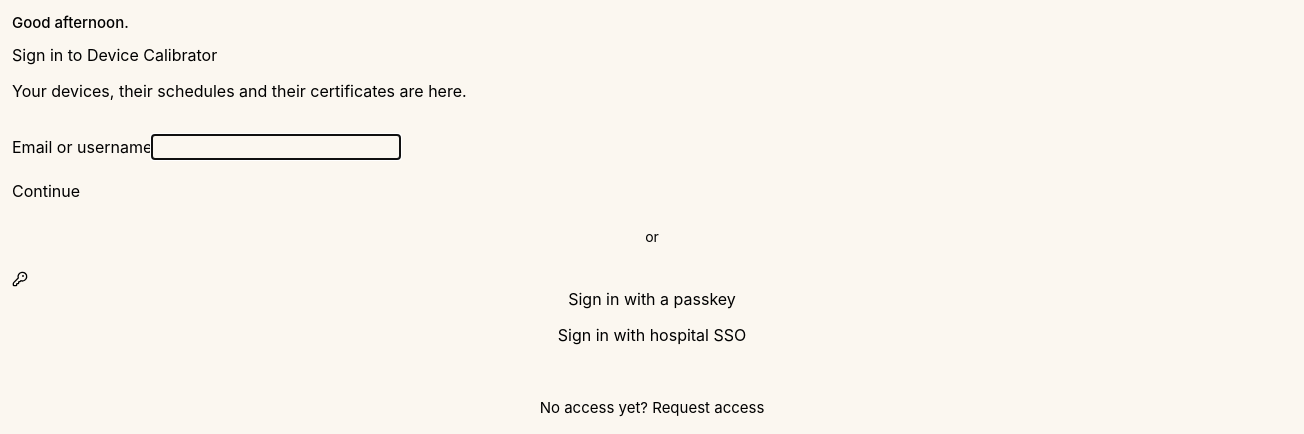
Test: P10-04: identifier-first sign-in › a wrong MFA code says so in the dictionary's words
Type "ada@rs.test" into the field labelled "Email or username" at (276, 146), box [152,134,400,158]
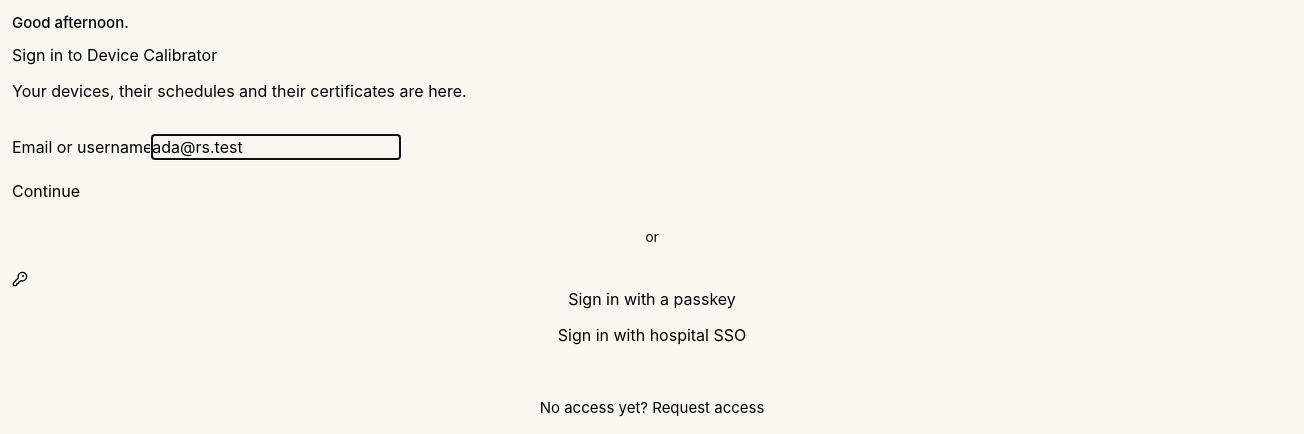
Click the button "Continue" at (46, 190), box [12,178,80,202]
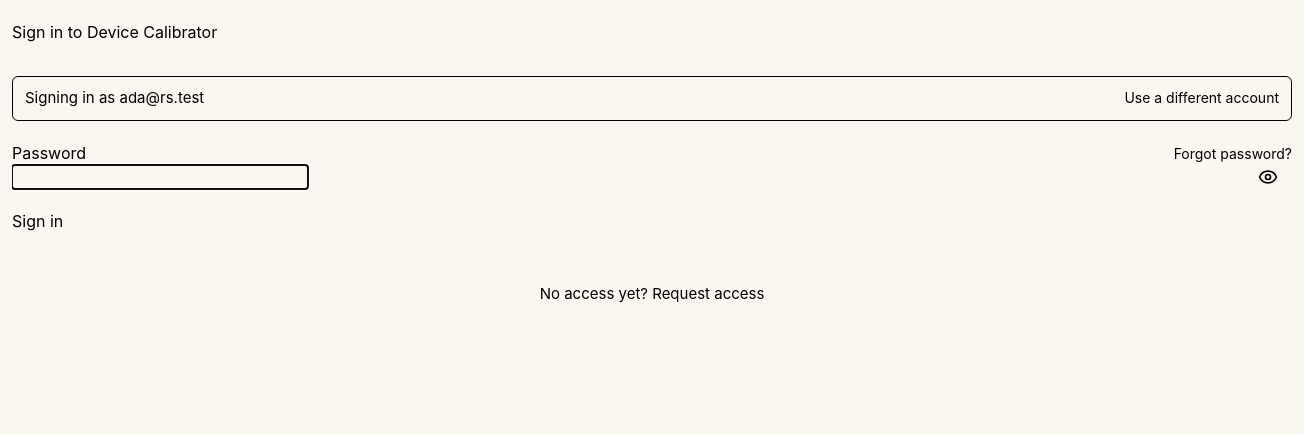
Type "Secret123" into the password field labelled "Password" at (160, 176), box [12,164,308,188]
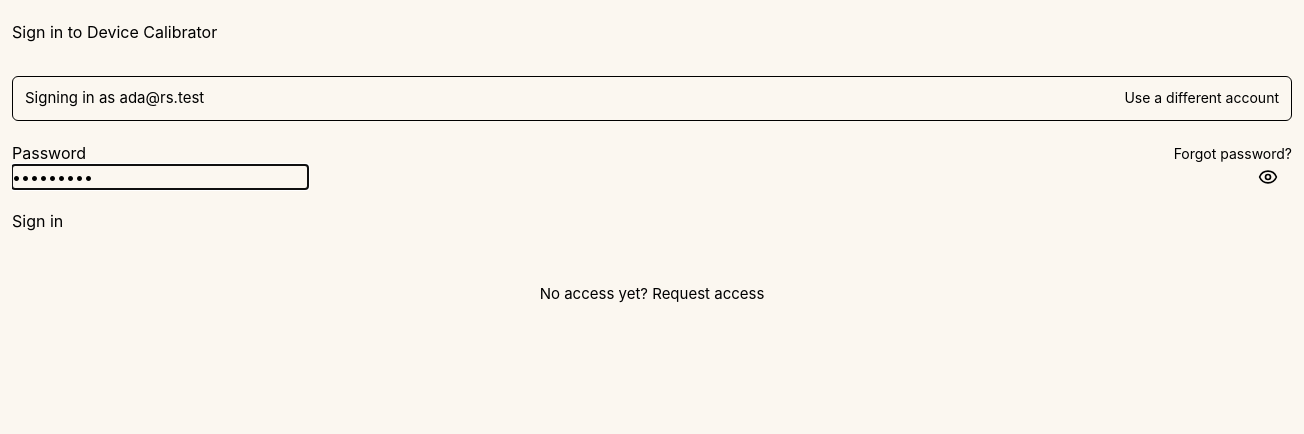
Click the button "Sign in" at (38, 220), box [12,208,63,232]
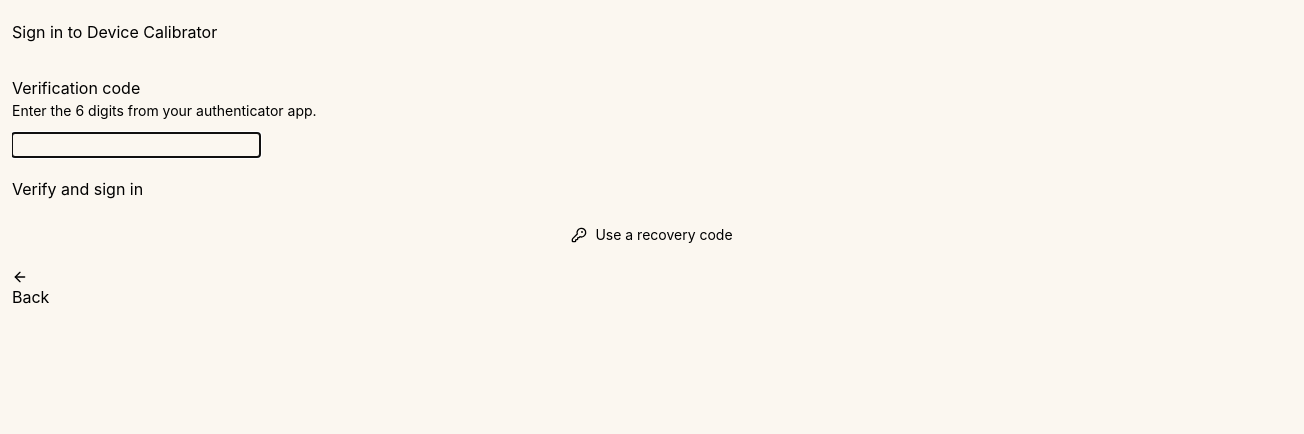
Type "000000" into the field labelled "Verification code" at (136, 145), box [12,133,260,157]
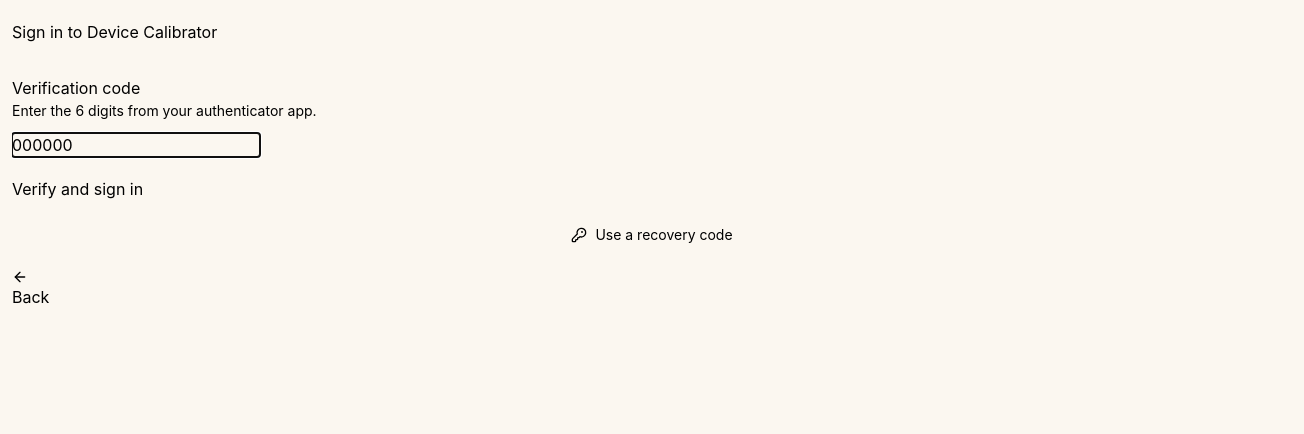
Click the button "Verify and sign in" at (78, 189), box [12,177,143,201]
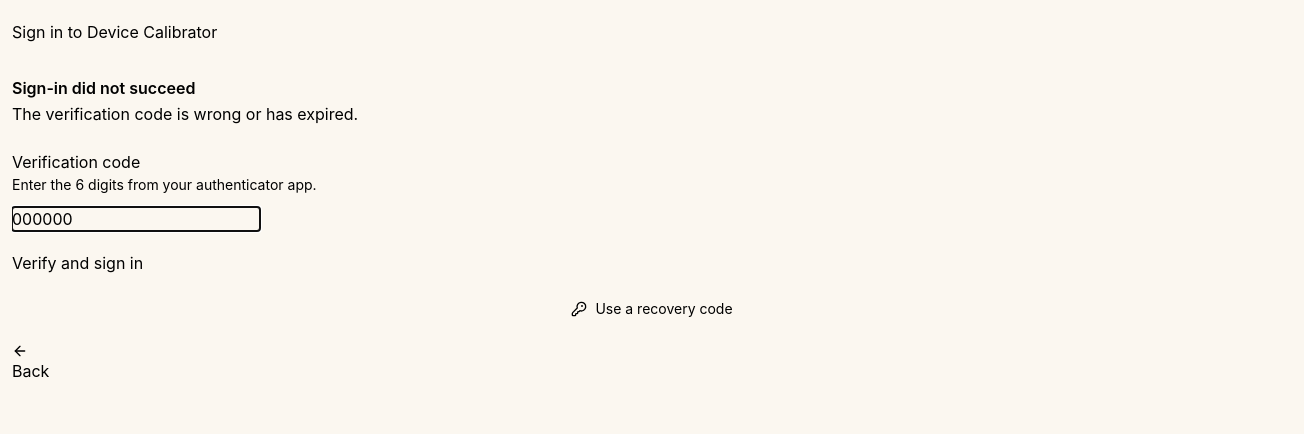
Expected: the message shows "The verification code is wrong or has expired.", [12,104,358,124]
